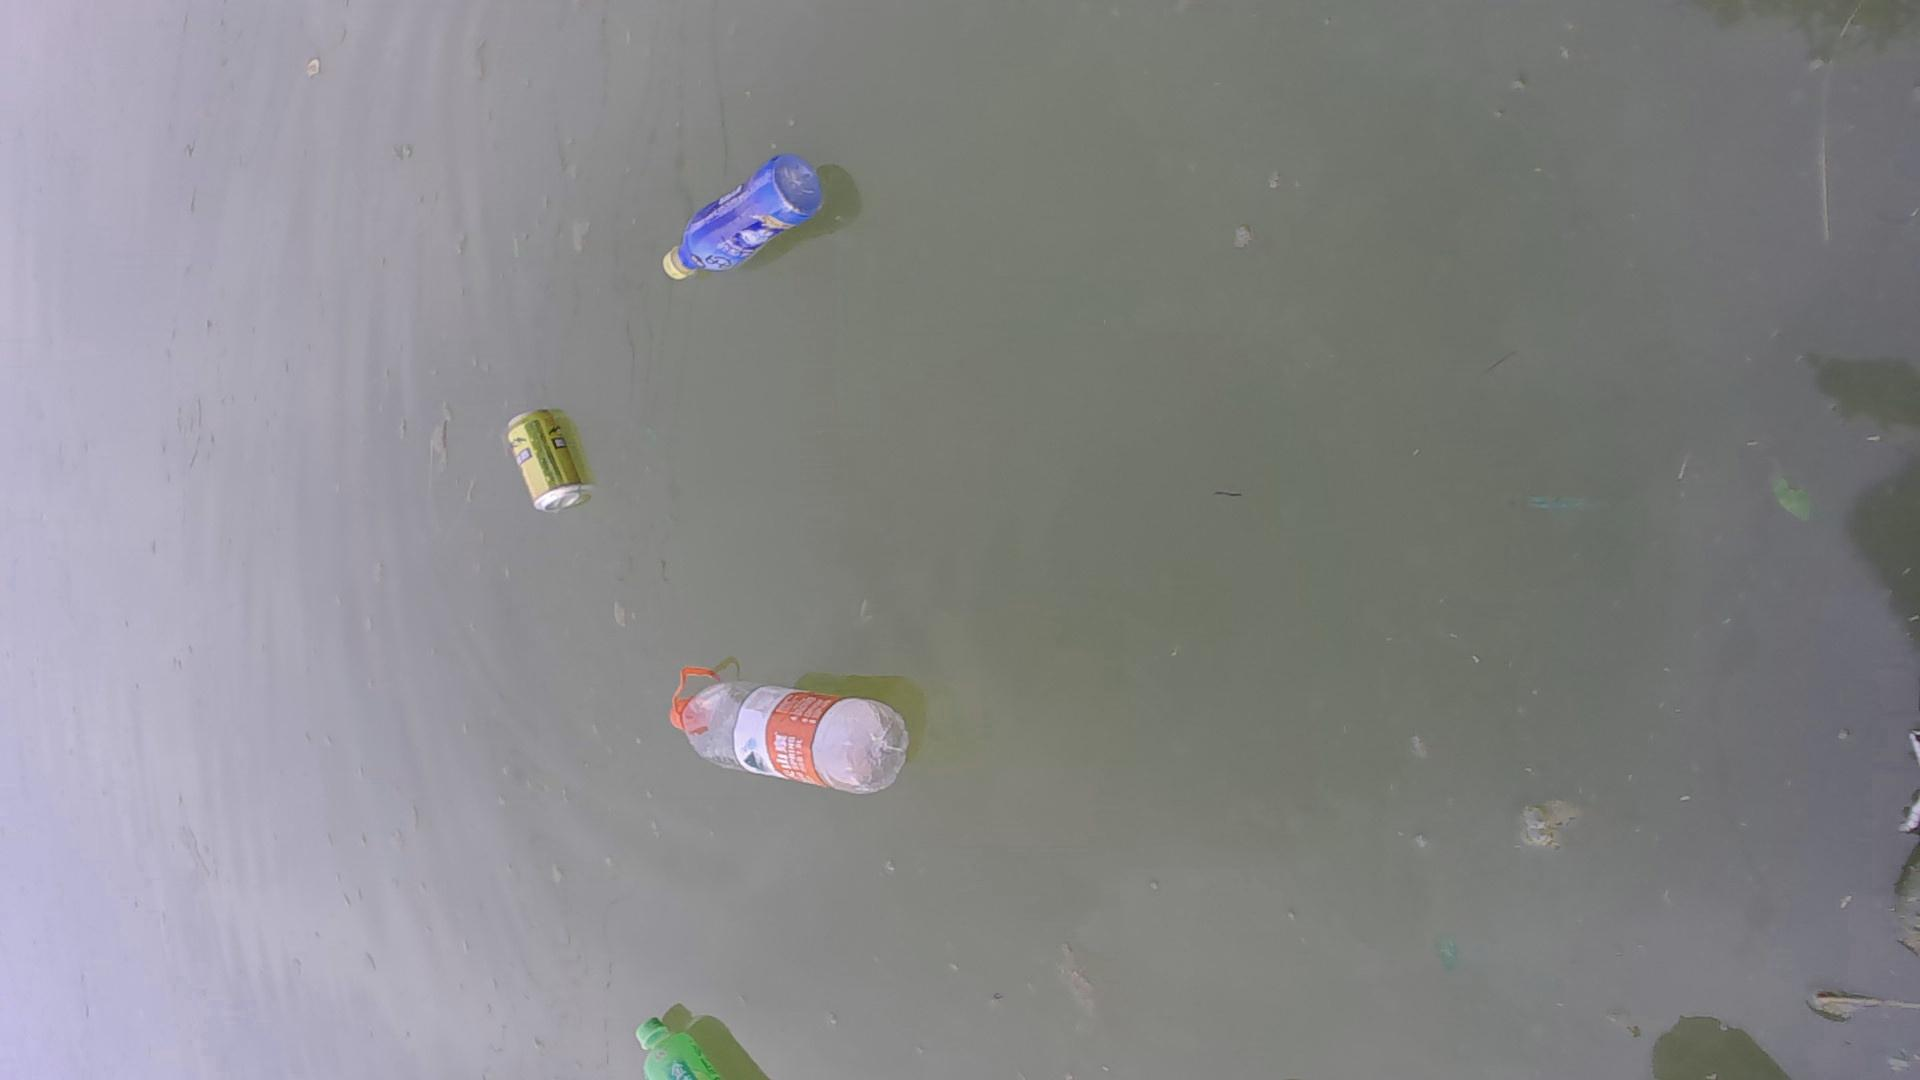Plastic: (653, 649, 923, 800), (654, 148, 829, 287), (495, 393, 604, 516), (624, 993, 723, 1077)
